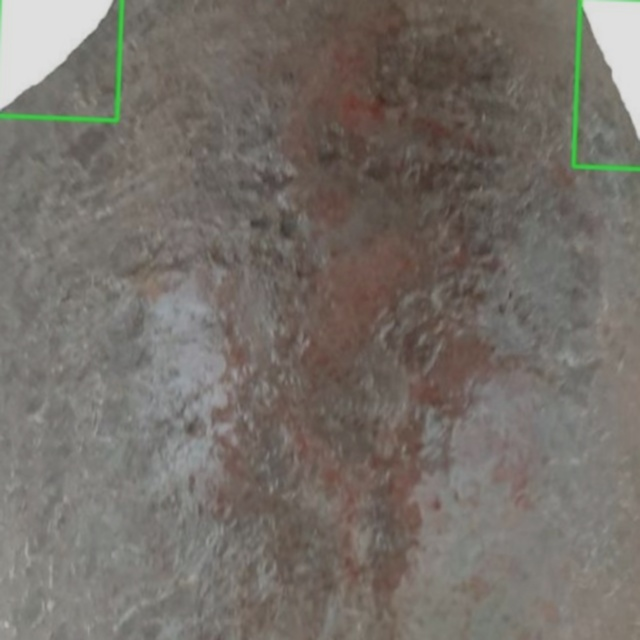Contact Dermatitis: (0, 0, 123, 120), (573, 0, 639, 169)
